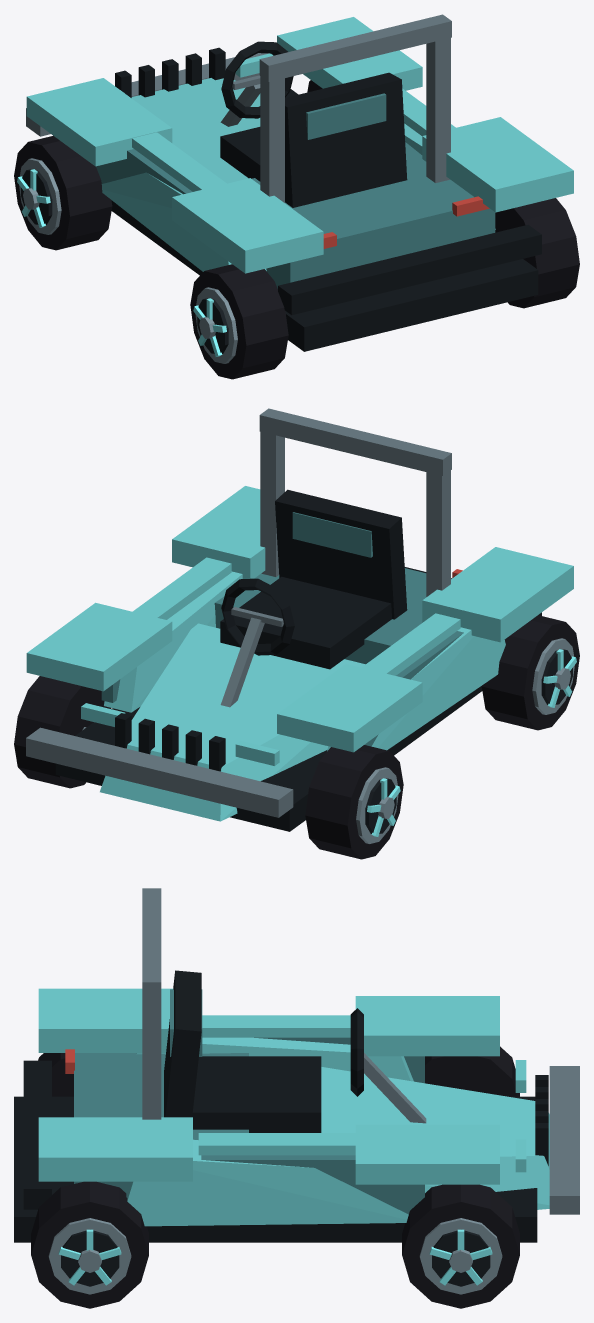
File: kart.glb
3 views of the same model, one above another, from view 1: azimuth 30°, elevation 25°; view 2: azimuth 150°, elevation 25°; view 3: azimuth 270°, elevation 25° (orthographic). The views are drawn at different scales.
Parts seen in each view (by area): view 1: chassis, wheel-rear-left, wheel-front-left, wheel-rear-right; view 2: chassis, wheel-front-left, wheel-rear-left, wheel-front-right; view 3: chassis, wheel-rear-right, wheel-front-right, wheel-front-left, wheel-rear-left.
Part boxes in pixels (box(x1,y1,x2,y2)): chassis: box(26, 14, 573, 351); wheel-rear-left: box(190, 264, 288, 379); wheel-front-left: box(14, 135, 112, 250); wheel-rear-right: box(495, 198, 579, 308); chassis: box(26, 408, 573, 831); wheel-front-left: box(305, 745, 403, 859); wheel-rear-left: box(481, 615, 579, 730); wheel-front-right: box(14, 676, 111, 788); chassis: box(14, 888, 579, 1242); wheel-rear-right: box(31, 1181, 148, 1308); wheel-front-right: box(402, 1184, 519, 1308); wheel-front-left: box(425, 1046, 519, 1096); wheel-rear-left: box(38, 1053, 73, 1096).
Bounding box in the file's own units: 2.3 × 1.67 × 2.98.
